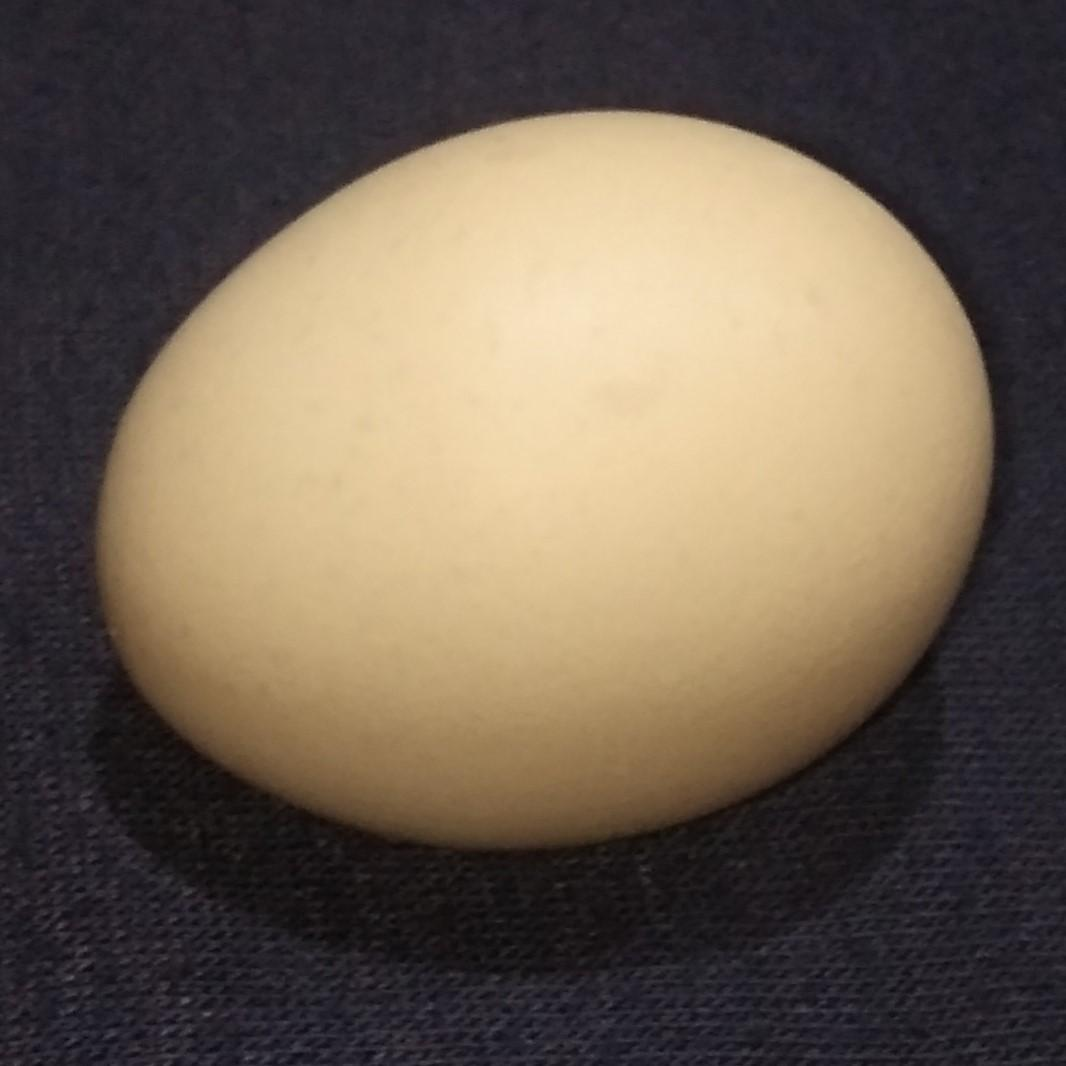egg: (98, 108, 996, 843)
